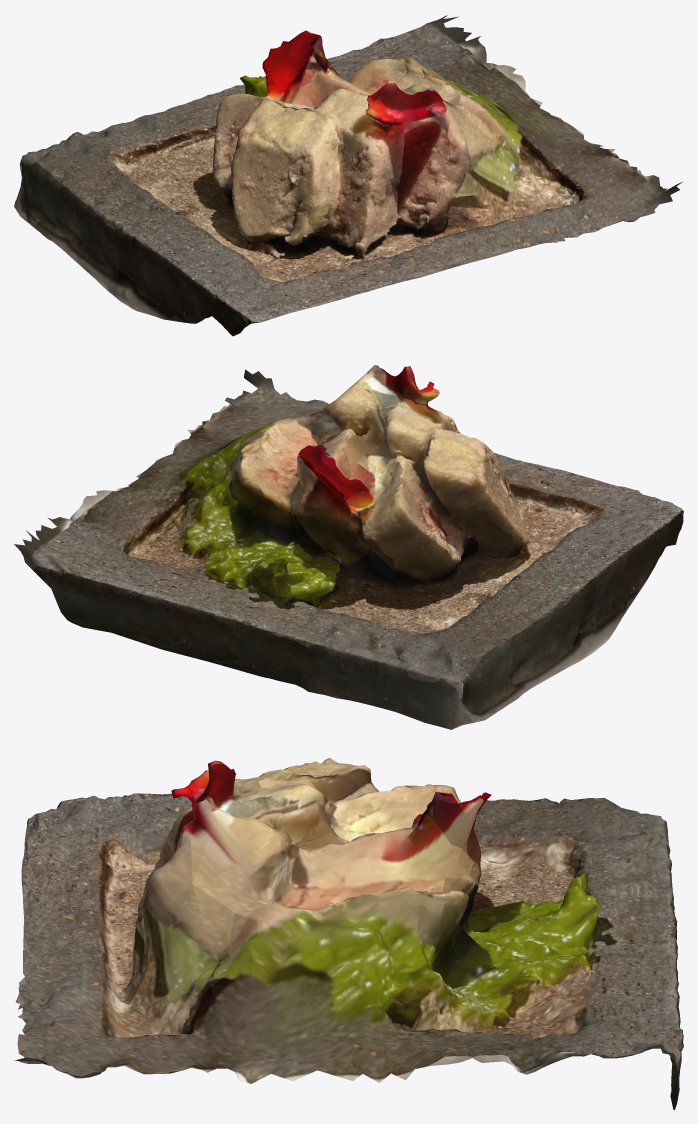
The model's file is uotome-foiegras.glb.
3 renders of one model, top to bottom at view 1: azimuth 30°, elevation 25°; view 2: azimuth 150°, elevation 25°; view 3: azimuth 270°, elevation 25°, orthographic. The views are drawn at different scales.
Parts seen in each view (by area): view 1: g0; view 2: g0; view 3: g0.
Boxes of the visible parts, <box> form: g0: <box>14,15,682,336</box>; g0: <box>14,365,683,729</box>; g0: <box>14,758,683,1109</box>.
Size of the model in its own units: 2.4 by 0.9859 by 2.23.
1 material, 1 textured.
